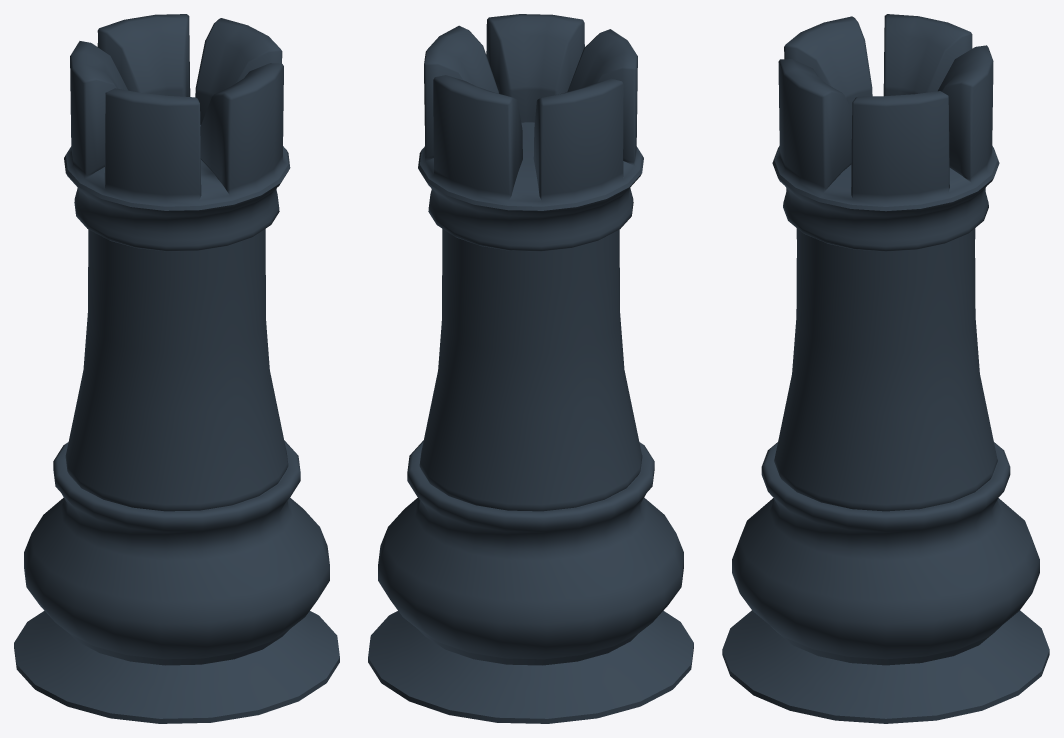
Rendered from black-rook.glb.
The picture shows the model from 3 angles, left to right: view 1: azimuth 30°, elevation 25°; view 2: azimuth 150°, elevation 25°; view 3: azimuth 270°, elevation 25°; orthographic projection.
Parts seen in each view (by area): view 1: Rook; view 2: Rook; view 3: Rook.
Part boxes in pixels (bbox=[...]): Rook: bbox=[14, 14, 339, 723]; Rook: bbox=[368, 14, 693, 723]; Rook: bbox=[722, 14, 1049, 723].
Bounding box in the file's own units: 0.0411 × 0.0828 × 0.0411.
